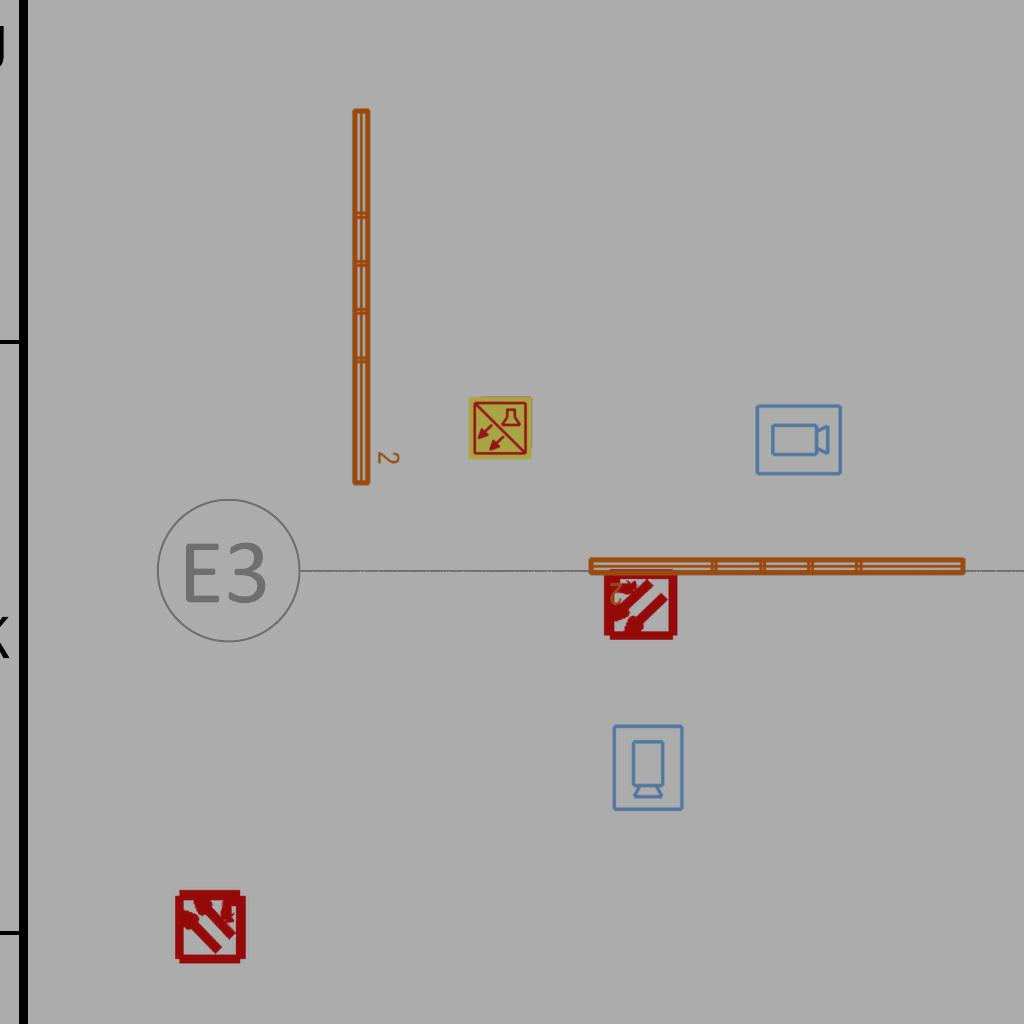Ambulanz_Pendelleuchte_LED: (346, 103, 402, 490), (584, 551, 971, 607)
KFO_Kamera_mit_Festobjektiv: (609, 722, 686, 813), (753, 402, 844, 479)
OKW_Multisensormelder_(Kombination_optischer_Rauch-Kahlenmonoxid_Waerme-Melder): (467, 395, 533, 461)
OT_Multisensormelder_(Kombination_RMO_WMD): (154, 868, 267, 981), (582, 548, 695, 661)
